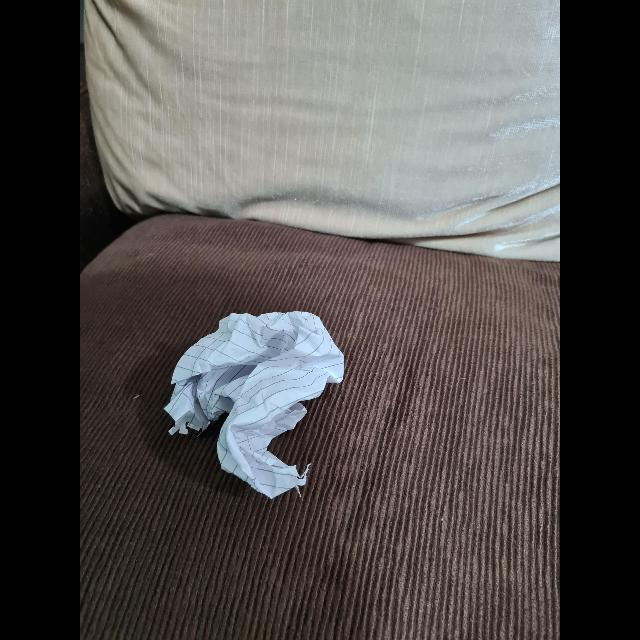trash: (161, 305, 345, 499)
